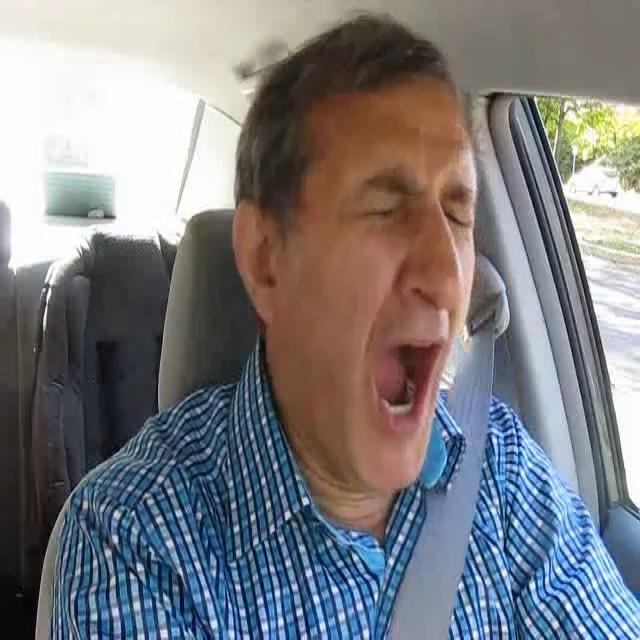yawn: (367, 332, 453, 436)
